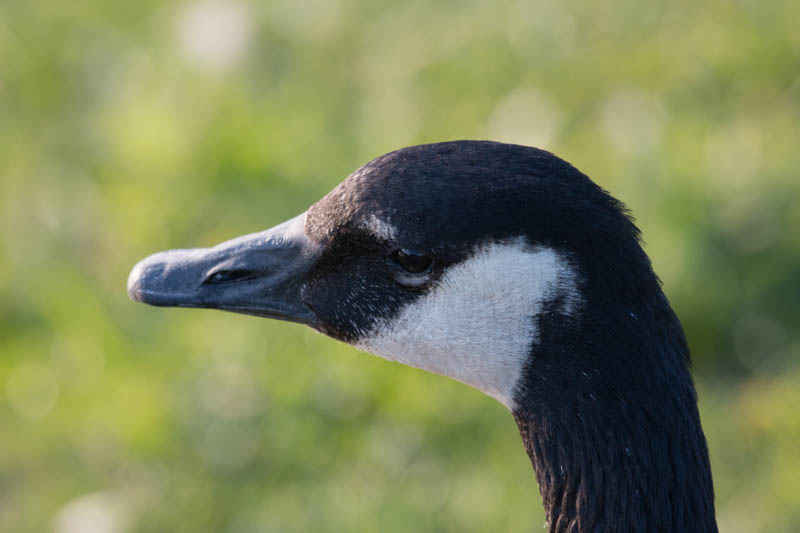goose-head: (126, 139, 697, 413)
